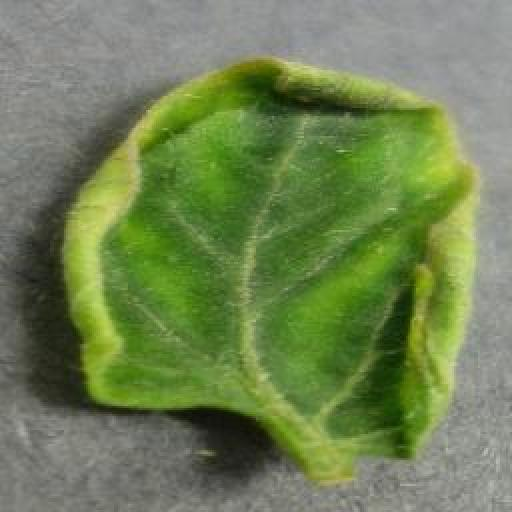disease_tomato: (59, 54, 484, 458)
